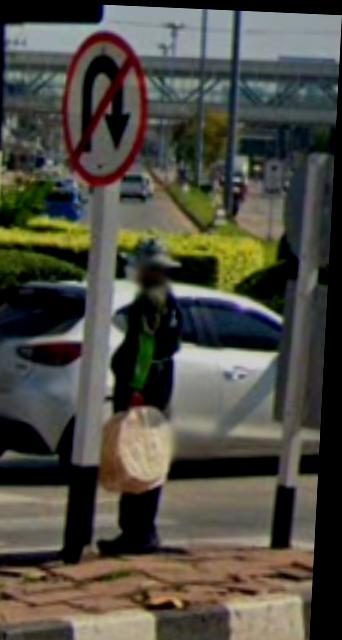not_u_turn_right: (57, 28, 155, 185)
